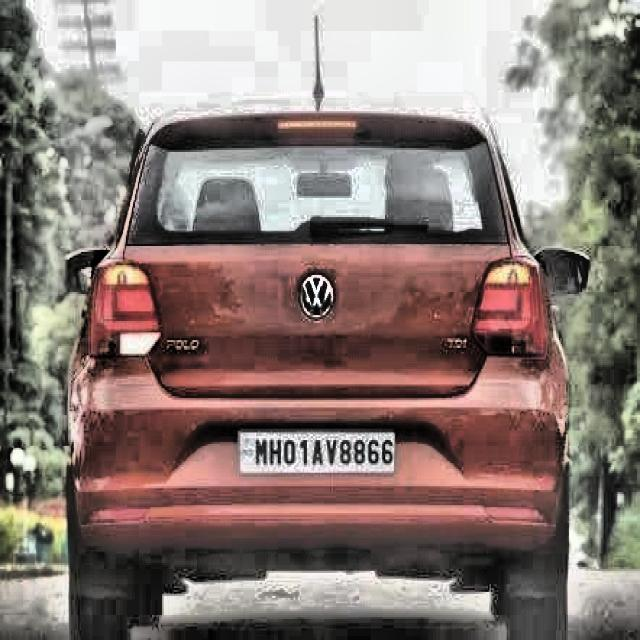license_plate: (238, 429, 397, 472)
